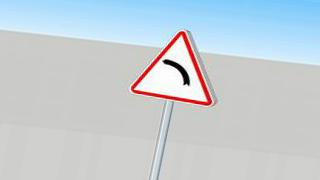left: (128, 30, 217, 107)
